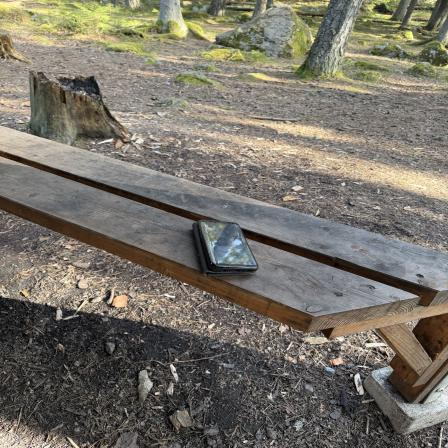phone: (190, 217, 258, 278)
